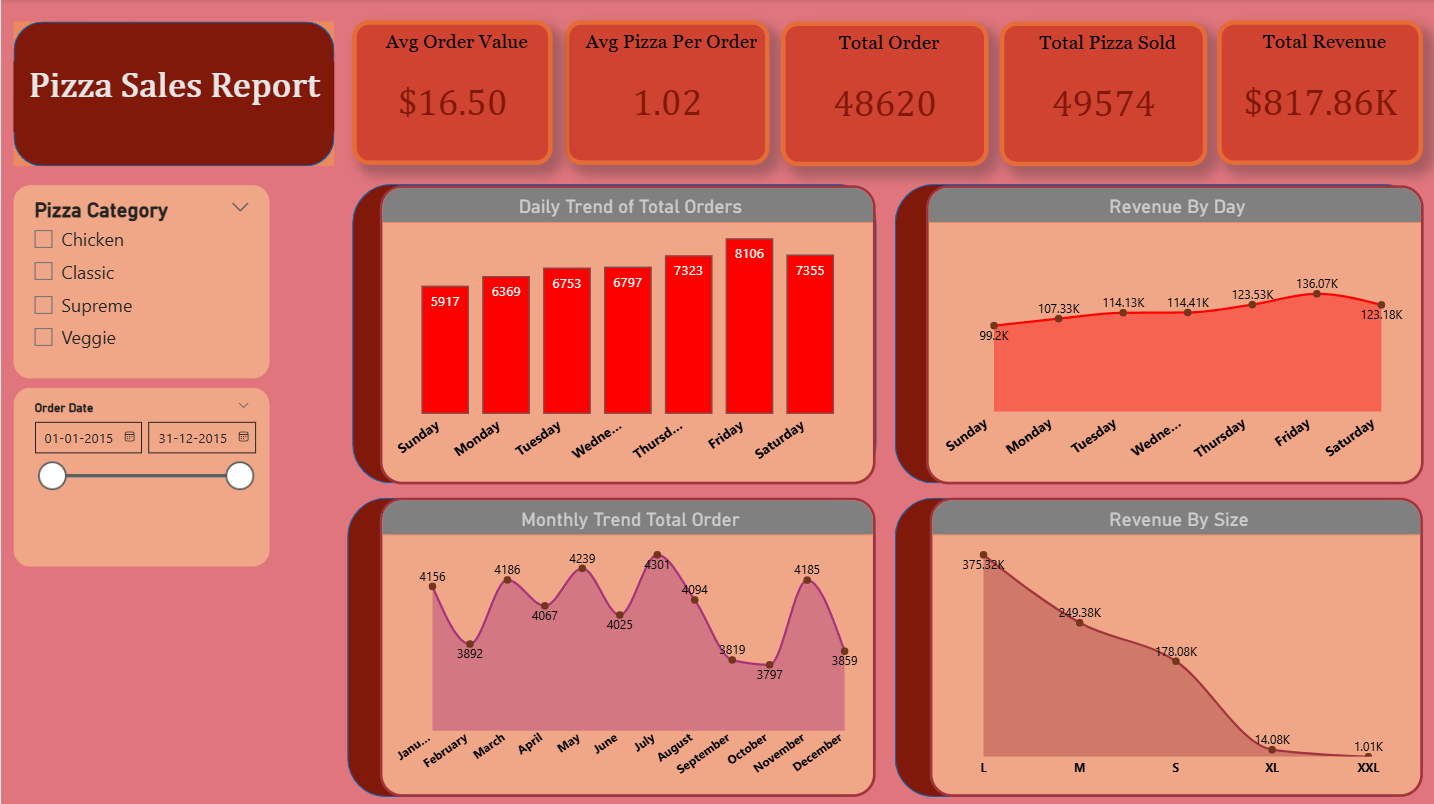

What the dashboard file says about the page in this screenshot:
{"tool":"powerbi","page":{"name":"Page 1","canvas":[1280,720],"ordinal":0},"visuals":[{"type":"card","title":"Avg Pizza Per Order","fields":{"Values":["public pizza_sales.average_pizza per order"]},"box":[501.9,19.3,182.2,129.1],"z":0},{"type":"card","title":"Avg Order Value","fields":{"Values":["public pizza_sales.Average order value"]},"box":[312.5,19.3,178.6,129.1],"z":1000},{"type":"card","title":"Total Order","fields":{"Values":["public pizza_sales.Total_order"]},"box":[694.9,20.5,184.6,129.1],"z":2000},{"type":"card","title":"Total Pizza Sold","fields":{"Values":["public pizza_sales.Total_pizza_sold"]},"box":[889.1,20.5,184.6,129.1],"z":3000},{"type":"card","title":"Total Revenue","fields":{"Values":["public pizza_sales.total_revenue"]},"box":[1083.4,19.3,183.4,129.1],"z":4000},{"type":"shape","title":"Pi","box":[10.9,20.5,285.9,129.1],"z":5000},{"type":"textbox","box":[10.9,55.5,285.9,62.7],"z":6000},{"type":"shape","box":[312.5,165.3,466.9,266.6],"z":7000},{"type":"shape","box":[796.3,165.3,470.5,266.6],"z":8000},{"type":"shape","box":[796.3,444,470.5,266.6],"z":9000},{"type":"shape","box":[308.8,444,470.5,266.6],"z":10000},{"type":"columnChart","title":"Daily Trend of Total Orders","fields":{"Category":["public pizza_sales.Day Name"],"Y":["Count(public pizza_sales.order_details_id)"]},"box":[337.4,165.6,441.7,266.3],"z":11000},{"type":"areaChart","title":"Revenue By Day","fields":{"Category":["public pizza_sales.Day Name"],"Y":["Sum(public pizza_sales.total_price)"]},"box":[823.3,165.6,442.9,266.3],"z":12000},{"type":"areaChart","title":"Monthly Trend Total Order","fields":{"Category":["public pizza_sales.Month_Name"],"Y":["Count(public pizza_sales.order_details_id)"]},"box":[337.4,444.2,441.7,266.3],"z":13000},{"type":"areaChart","title":"Revenue By Size","fields":{"Category":["public pizza_sales.pizza_size"],"Y":["Sum(public pizza_sales.total_price)"]},"box":[827,444.2,439.3,266.3],"z":14000},{"type":"slicer","title":"Pizza Category","fields":{"Values":["public pizza_sales.pizza_category"]},"box":[11,165.6,228.2,171.8],"z":15000},{"type":"slicer","title":"Pizza Category","fields":{"Values":["public pizza_sales.order_date"]},"box":[11,346,228.2,159.5],"z":16000}]}

Visuals, with their boxes in screenshot pixels (x1, y1, x2, y2), scaled from the page's 1280x720 canvas onto the 1434x804 screenshot:
"Avg Pizza Per Order" card: l=562, t=22, r=766, b=166
"Avg Order Value" card: l=350, t=22, r=550, b=166
"Total Order" card: l=779, t=23, r=985, b=167
"Total Pizza Sold" card: l=996, t=23, r=1203, b=167
"Total Revenue" card: l=1214, t=22, r=1419, b=166
"Pi" shape: l=12, t=23, r=333, b=167
textbox: l=12, t=62, r=333, b=132
shape: l=350, t=185, r=873, b=482
shape: l=892, t=185, r=1419, b=482
shape: l=892, t=496, r=1419, b=794
shape: l=346, t=496, r=873, b=794
"Daily Trend of Total Orders" columnChart: l=378, t=185, r=873, b=482
"Revenue By Day" areaChart: l=922, t=185, r=1419, b=482
"Monthly Trend Total Order" areaChart: l=378, t=496, r=873, b=793
"Revenue By Size" areaChart: l=926, t=496, r=1419, b=793
"Pizza Category" slicer: l=12, t=185, r=268, b=377
"Pizza Category" slicer: l=12, t=386, r=268, b=564
